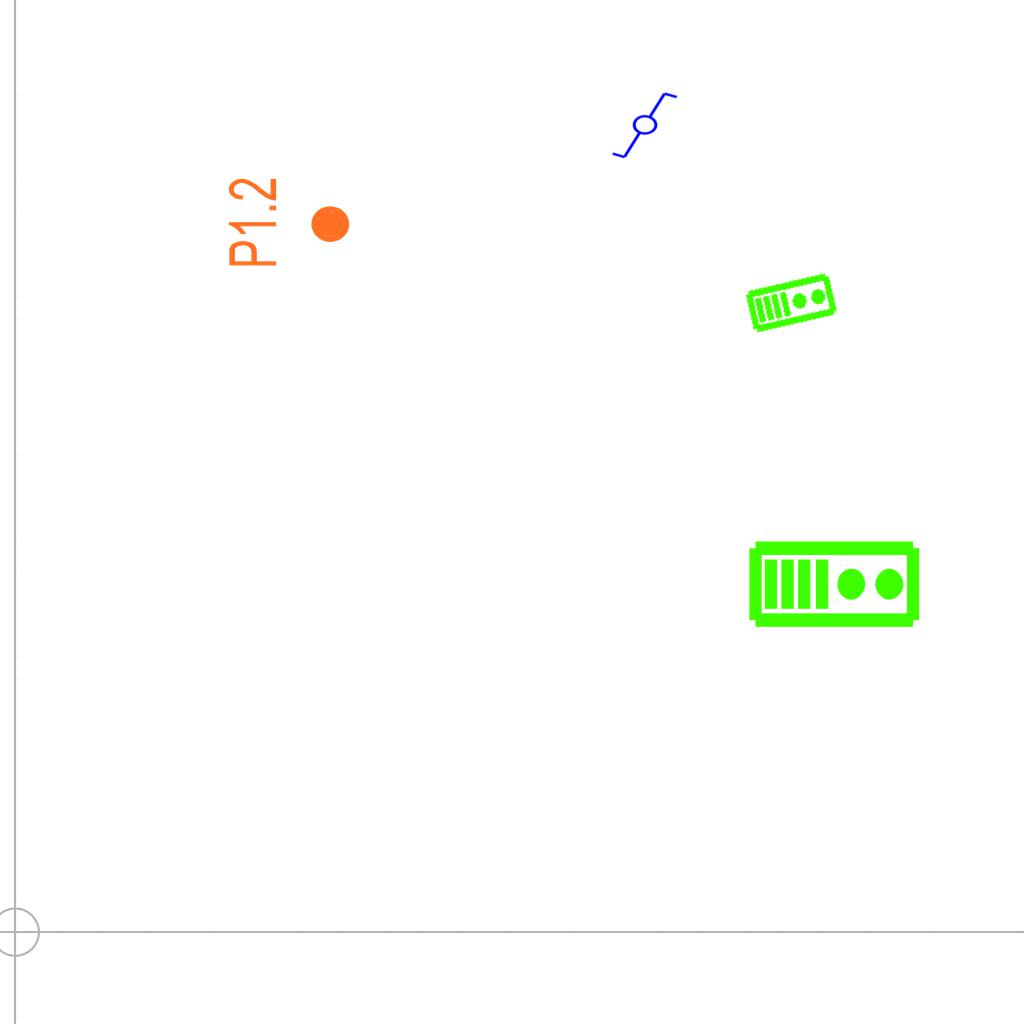Downlight_LED_Einbauleuchten_Flur: (225, 176, 353, 269)
Gegensprechanlage_mit_Video: (747, 535, 923, 630), (743, 269, 840, 335)
Wechselschalter: (610, 90, 688, 162)
